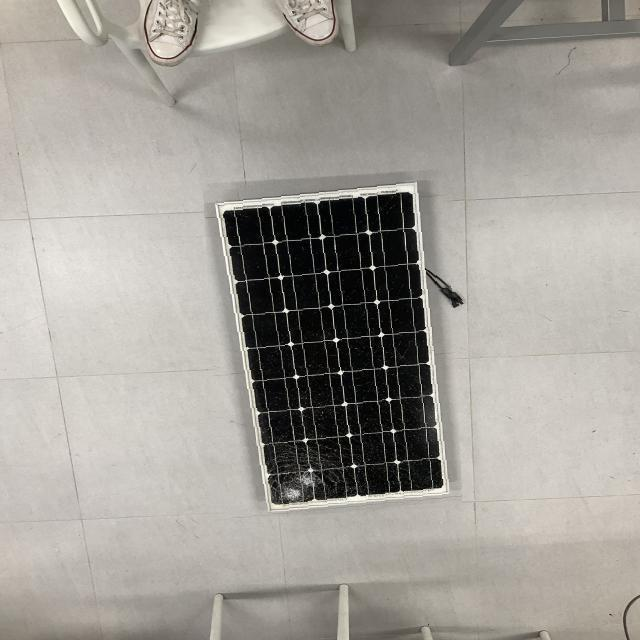Photovoltaic-Panel: (200, 158, 478, 534)
